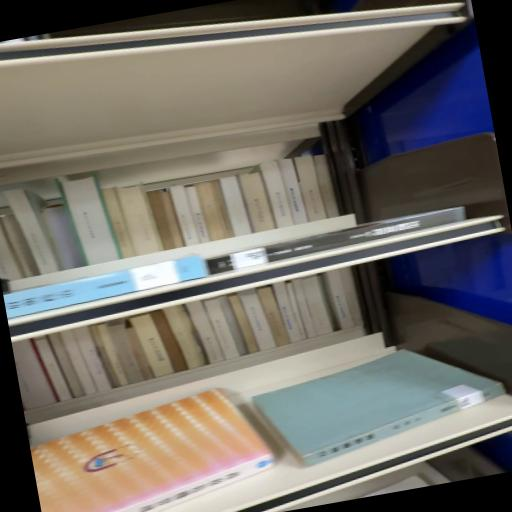flat: (31, 389, 274, 512), (252, 351, 506, 467), (207, 207, 466, 275), (4, 256, 210, 320)
